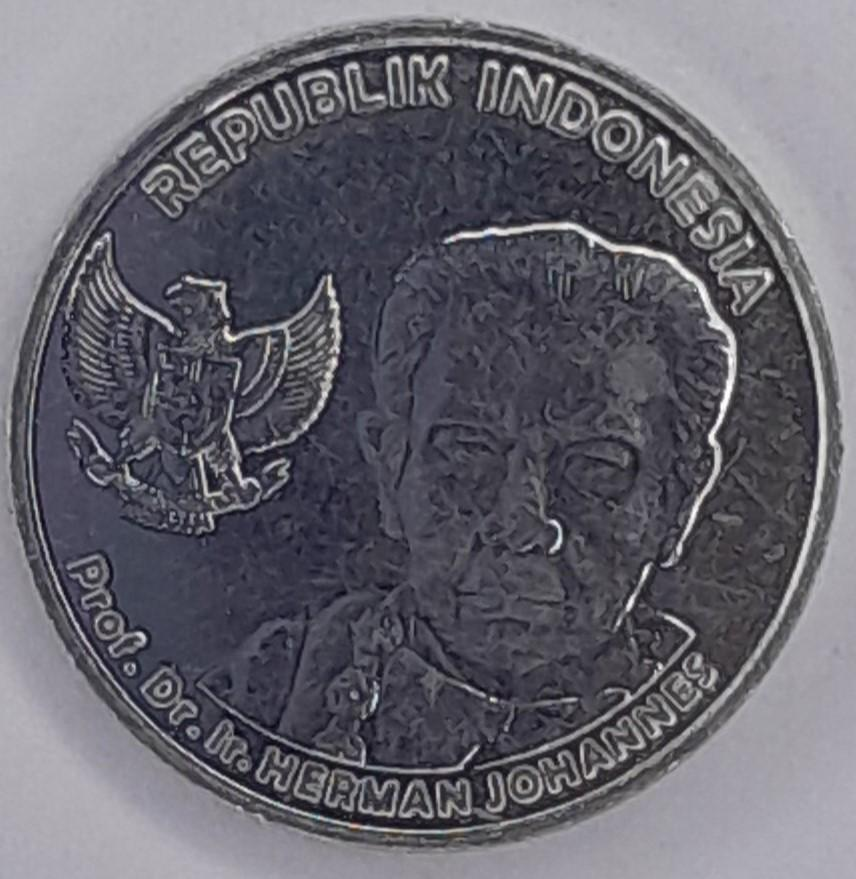coin_100_e2016: (3, 12, 848, 852)
